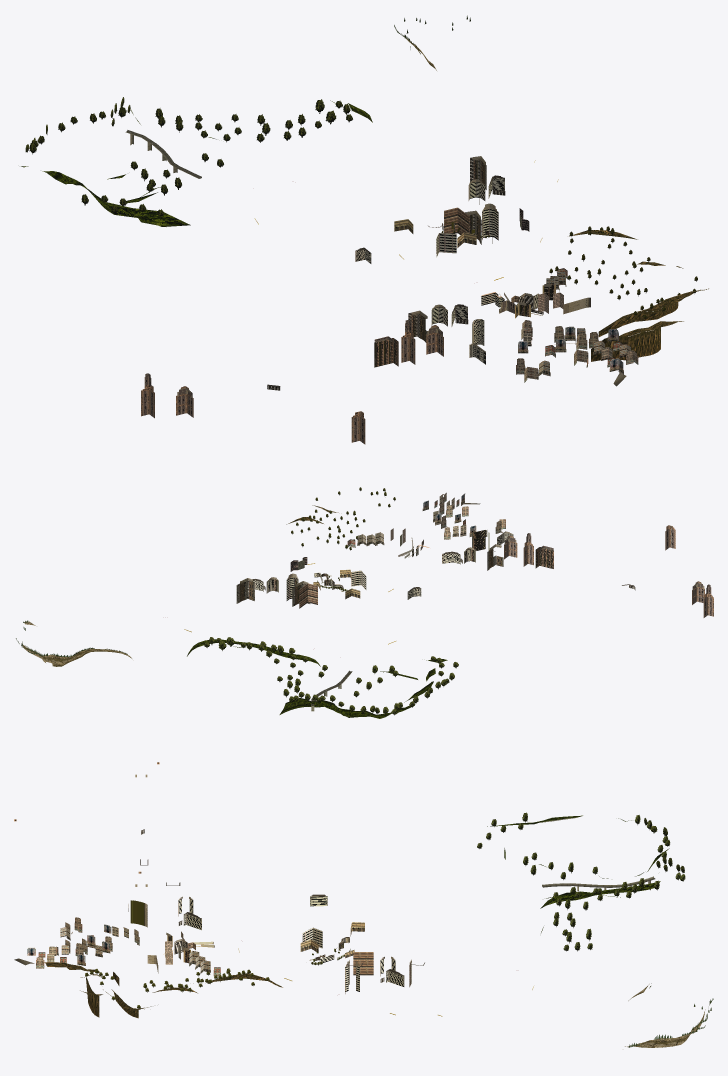
Rendered from track-B2_C5_V2_env.glb.
The picture shows the model from 3 angles, top to bottom: view 1: azimuth 30°, elevation 25°; view 2: azimuth 150°, elevation 25°; view 3: azimuth 270°, elevation 25°; orthographic projection. The views are drawn at different scales.
Parts seen in each view (by area): view 1: B2_C5_V2_env; view 2: B2_C5_V2_env; view 3: B2_C5_V2_env.
Part boxes in pixels (x1,y1,x2,y2): B2_C5_V2_env: (21, 15, 708, 444); B2_C5_V2_env: (16, 487, 713, 718); B2_C5_V2_env: (14, 762, 713, 1047).
Size of the model in its own units: 3290 by 330 by 3360.
9 materials, 9 textured.
